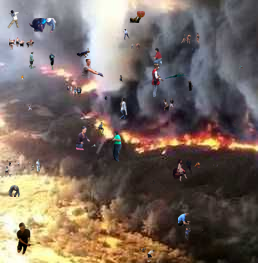Human: (119, 98, 145, 119), (16, 222, 32, 255), (105, 131, 122, 162), (78, 59, 104, 79), (9, 36, 46, 50), (3, 161, 35, 177), (29, 18, 59, 35), (76, 126, 96, 151), (172, 159, 192, 184), (29, 51, 55, 70), (6, 7, 28, 29), (151, 63, 164, 97), (129, 11, 150, 23), (185, 228, 205, 240), (173, 80, 193, 91), (181, 33, 200, 44), (151, 48, 162, 66), (66, 86, 82, 97), (178, 213, 191, 226), (162, 98, 174, 111), (165, 73, 190, 79), (8, 185, 20, 197), (147, 249, 158, 262), (76, 48, 90, 58), (97, 122, 104, 134), (123, 29, 130, 40), (131, 43, 140, 51), (36, 159, 40, 172), (193, 162, 200, 168), (119, 75, 123, 84), (139, 247, 146, 252), (27, 105, 32, 111), (21, 75, 24, 82), (150, 180, 155, 184), (239, 64, 243, 69), (6, 162, 11, 166), (103, 96, 108, 100), (234, 120, 238, 125), (213, 164, 219, 167)
